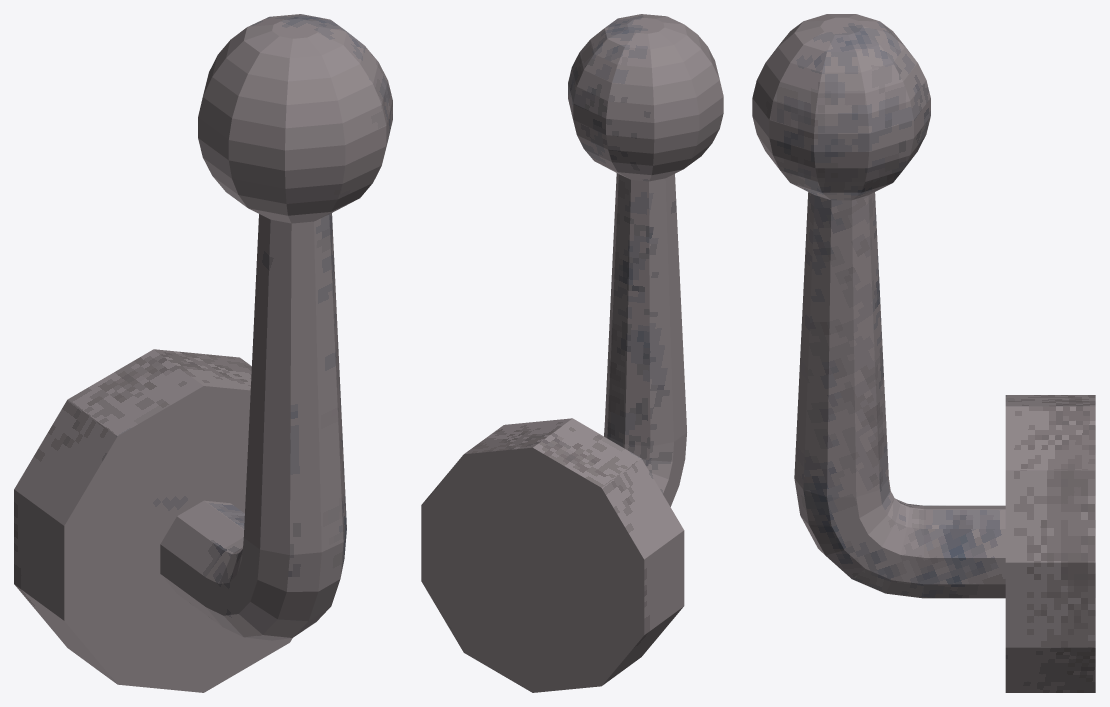
The model's file is lever.glb.
3 renders of one model, left to right at view 1: azimuth 30°, elevation 25°; view 2: azimuth 150°, elevation 25°; view 3: azimuth 270°, elevation 25°, orthographic. The views are drawn at different scales.
Parts seen in each view (by area): view 1: Circle; view 2: Circle; view 3: Circle.
Part boxes in pixels (x1,y1,x2,y2): Circle: [14, 14, 392, 692]; Circle: [421, 14, 723, 692]; Circle: [752, 14, 1095, 692].
Size of the model in its own units: 1.9 by 4.76 by 2.26.
1 material, 1 textured.
